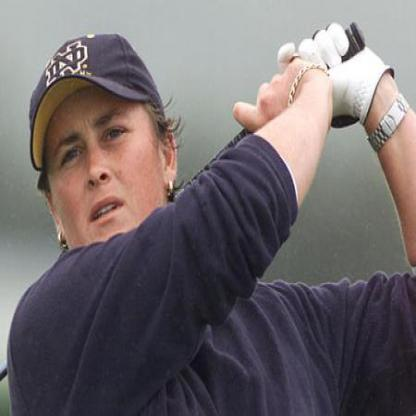face: (44, 36, 164, 272)
